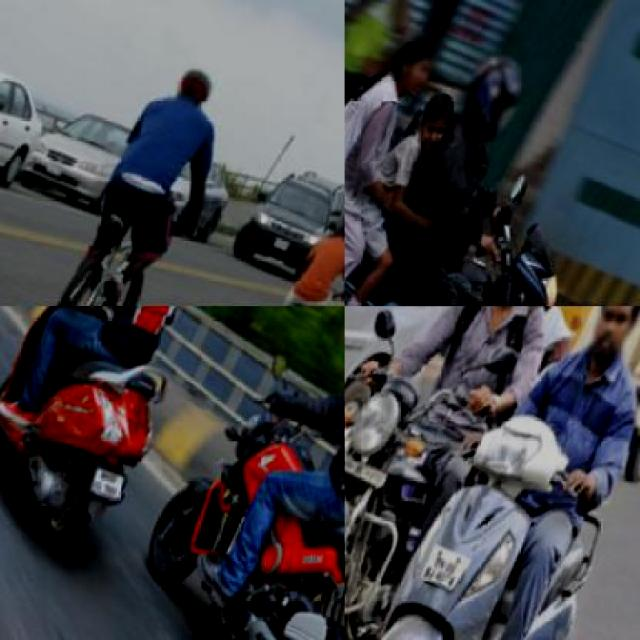With Helmet: (448, 36, 543, 153), (163, 57, 223, 120), (334, 199, 343, 243)
Without Helmet: (387, 22, 448, 92), (572, 306, 638, 368), (412, 82, 465, 144)
